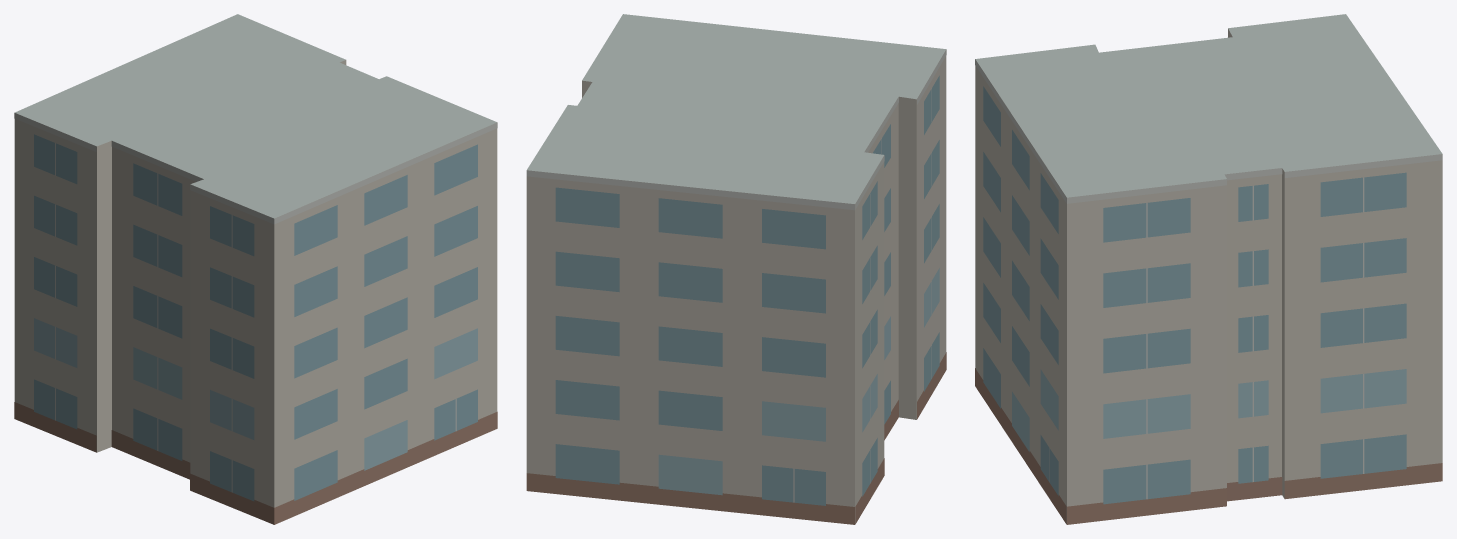
File: survey-upis-32717004.glb
3 views of the same model, side by side, from view 1: azimuth 30°, elevation 25°; view 2: azimuth 150°, elevation 25°; view 3: azimuth 270°, elevation 25° (orthographic). The views are drawn at different scales.
Visible parts, largest first — view 1: survey-upis-32717004.tmp; view 2: survey-upis-32717004.tmp; view 3: survey-upis-32717004.tmp.
Part boxes in pixels (left/top/right/bottom): survey-upis-32717004.tmp: left=14, top=14, right=497, bottom=524; survey-upis-32717004.tmp: left=526, top=14, right=946, bottom=524; survey-upis-32717004.tmp: left=975, top=14, right=1442, bottom=524.
Size of the model in its own units: 15.42 by 12.8 by 16.58.
